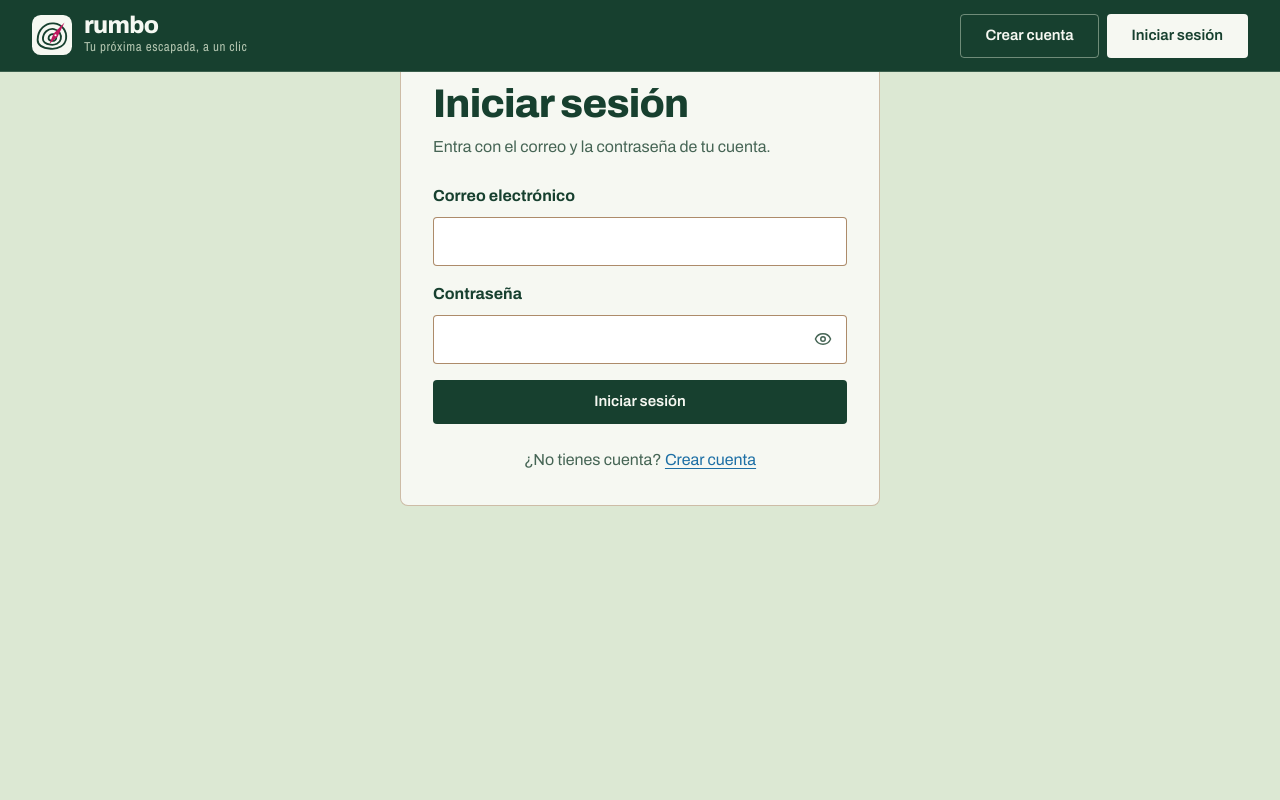
Test case: Login (#14), logout (#15) and admin role (#16) › shows a clear error for wrong credentials
Type "ana@correo.com" into the field labelled "Correo electrónico". click: (640, 241)
box: [433, 217, 847, 266]
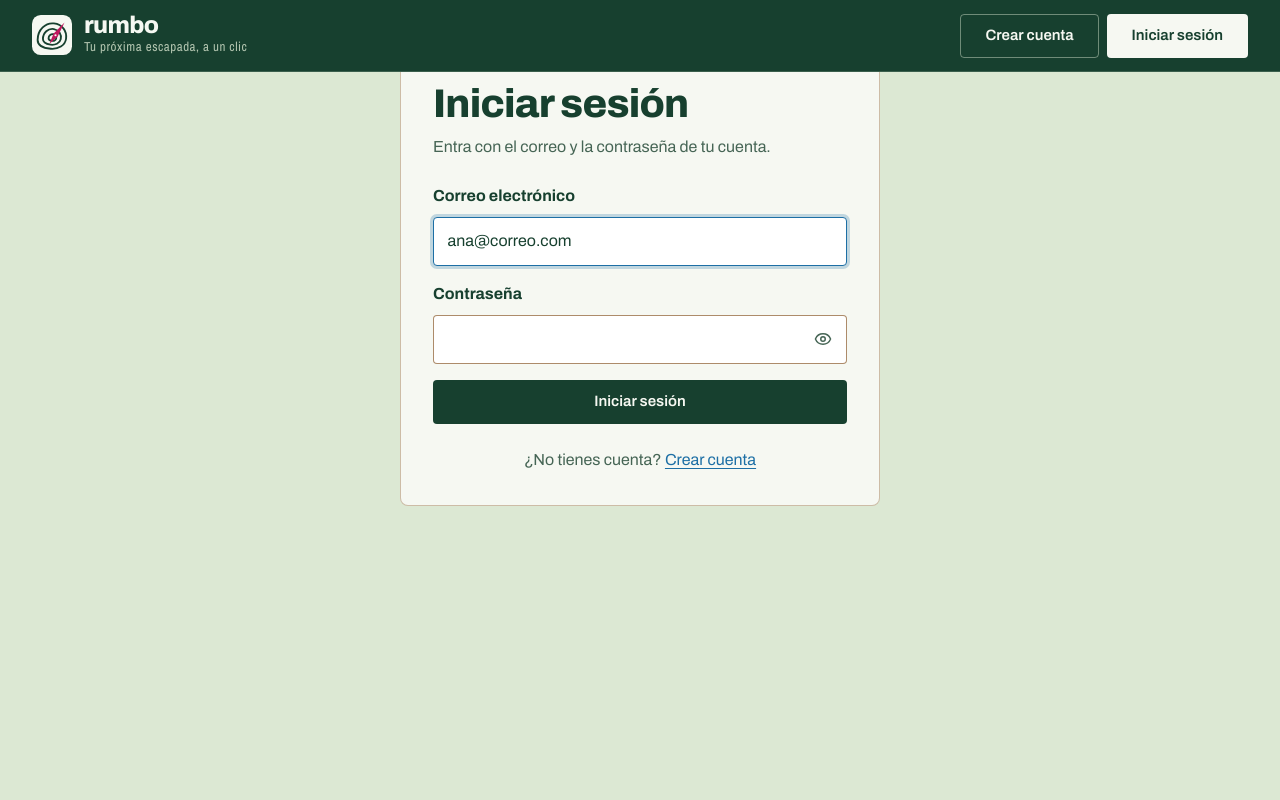
Type "mala1234" into the password field labelled "Contraseña". click: (640, 339)
box: [433, 315, 847, 364]
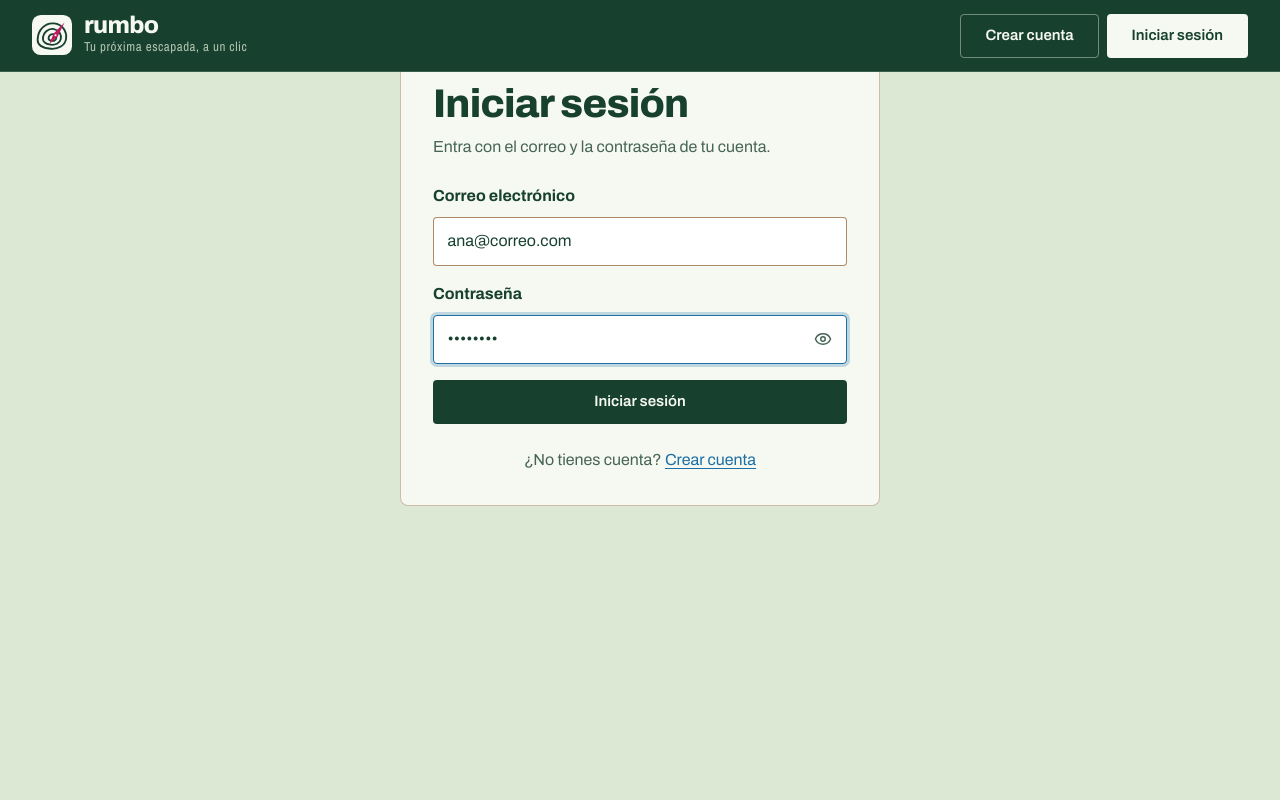
Click the button "Iniciar sesión". click: (640, 402)
box: [433, 380, 847, 424]
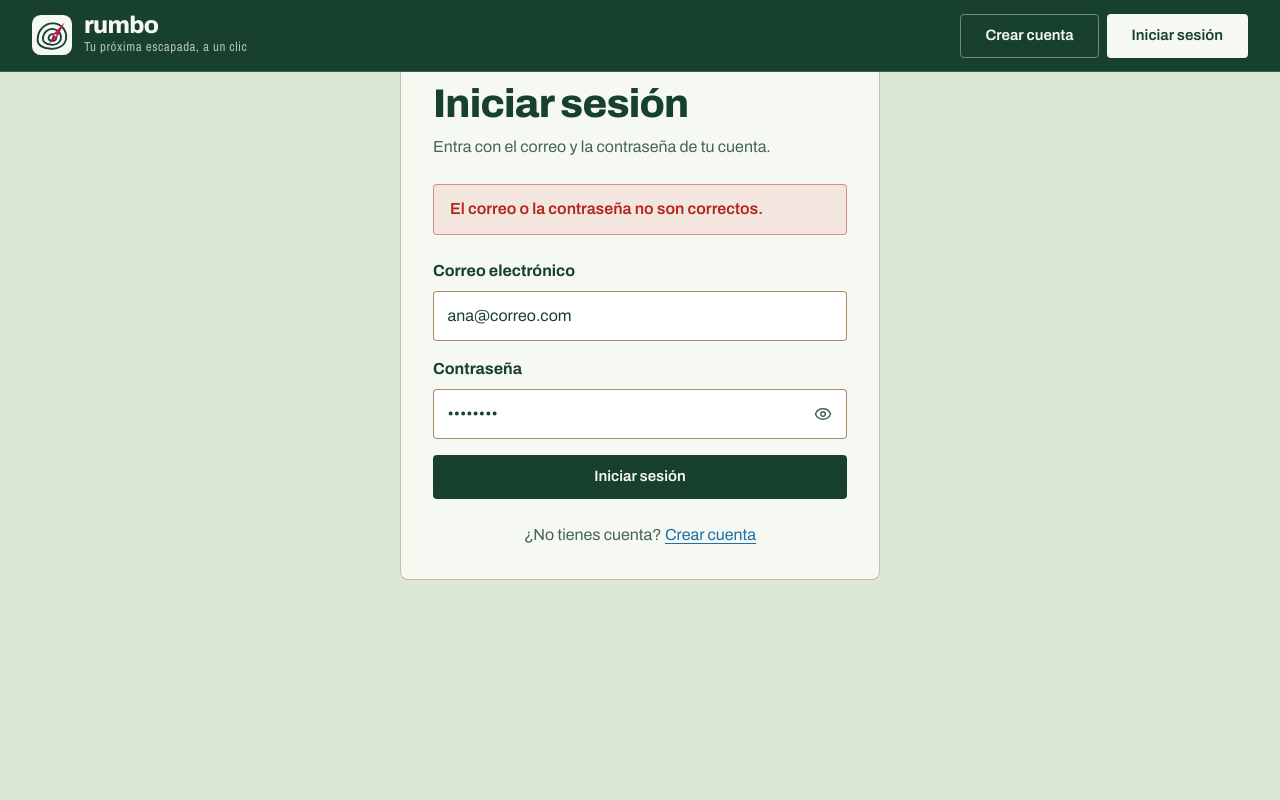
Check: the message shows "no son correctos", box [450, 200, 763, 217]
